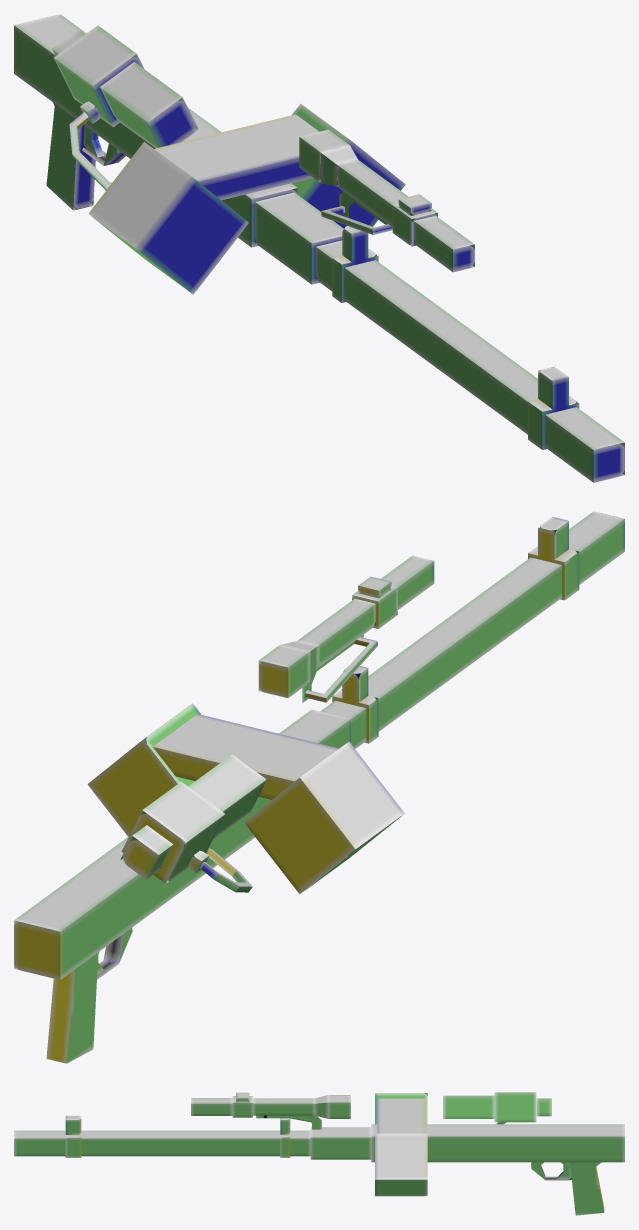
The model's file is rt97cModel.obj.
3 views of the same model, one above another, from view 1: azimuth 30°, elevation 25°; view 2: azimuth 150°, elevation 25°; view 3: azimuth 270°, elevation 25° (orthographic). The views are drawn at different scales.
Parts seen in each view (by area): view 1: group2 rt97cModel_polySurface1, group2pCube1 rt97cModel_polySurface1; view 2: group2 rt97cModel_polySurface1, group2pCube1 rt97cModel_polySurface1; view 3: group2 rt97cModel_polySurface1.
Boxes of the visible parts, <box> form: group2 rt97cModel_polySurface1: <box>14,14,624,482</box>; group2pCube1 rt97cModel_polySurface1: <box>69,112,112,190</box>; group2 rt97cModel_polySurface1: <box>14,511,624,1063</box>; group2pCube1 rt97cModel_polySurface1: <box>200,848,252,892</box>; group2 rt97cModel_polySurface1: <box>14,1092,624,1215</box>.
Size of the model in its own units: 2.43 by 1.99 by 8.97.
